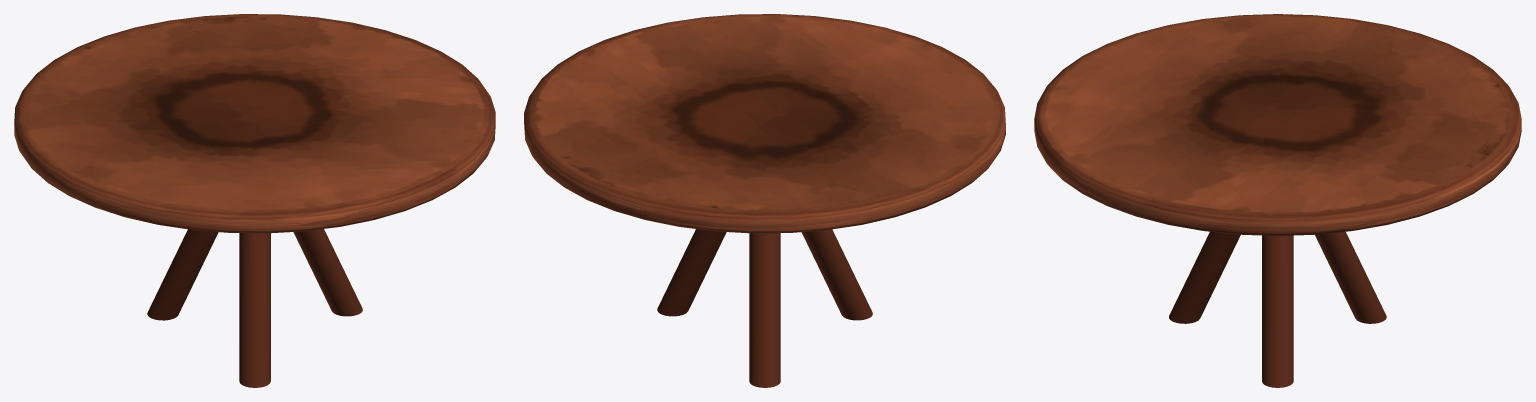
Rendered from Platform3.fbx.
3 views of the same model, side by side, from view 1: azimuth 30°, elevation 25°; view 2: azimuth 150°, elevation 25°; view 3: azimuth 270°, elevation 25° (orthographic).
Visible parts, largest first — view 1: Platform3; view 2: Platform3; view 3: Platform3.
Boxes of the visible parts, x1,y1,x2,y2 form: Platform3: [14, 14, 495, 387]; Platform3: [524, 14, 1005, 387]; Platform3: [1034, 14, 1521, 387].
Bounding box in the file's own units: 6.39 × 3.26 × 6.39.
